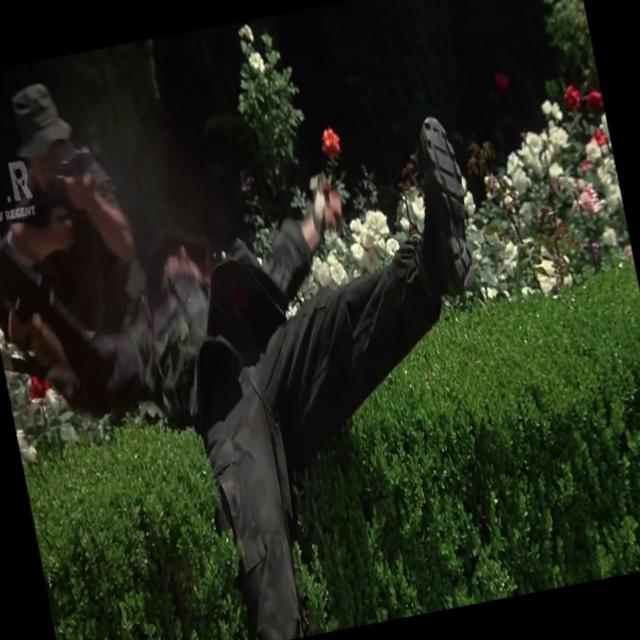handgun: (0, 187, 84, 370)
long weapon: (5, 124, 136, 252)
